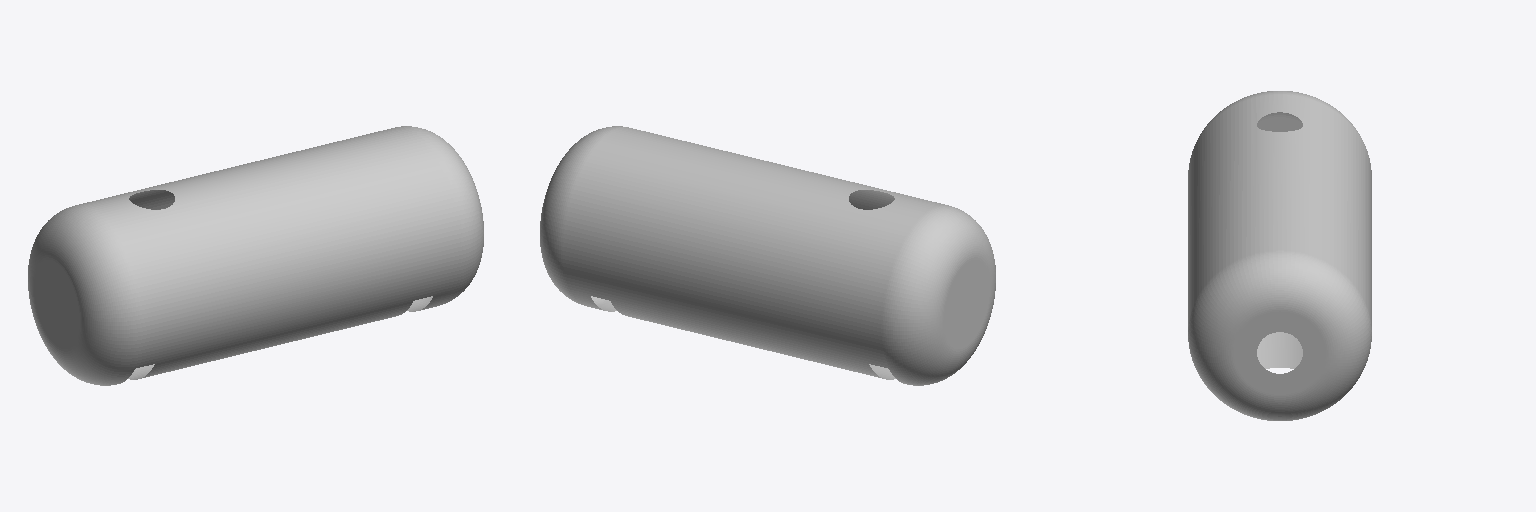
The model's file is separator_base.obj.
3 views of the same model, side by side, from view 1: azimuth 30°, elevation 25°; view 2: azimuth 150°, elevation 25°; view 3: azimuth 270°, elevation 25° (orthographic).
Visible parts, largest first — view 1: obj1; view 2: obj1; view 3: obj1.
Boxes of the visible parts, x1,y1,x2,y2 form: obj1: [28, 126, 483, 385]; obj1: [540, 126, 995, 385]; obj1: [1188, 91, 1371, 420].
Size of the model in its own units: 20 by 8 by 8.